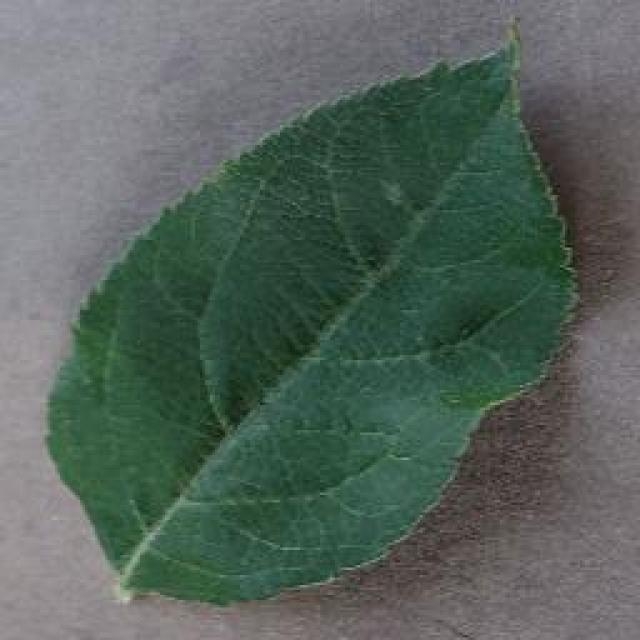apple healthy: (42, 15, 582, 605)
